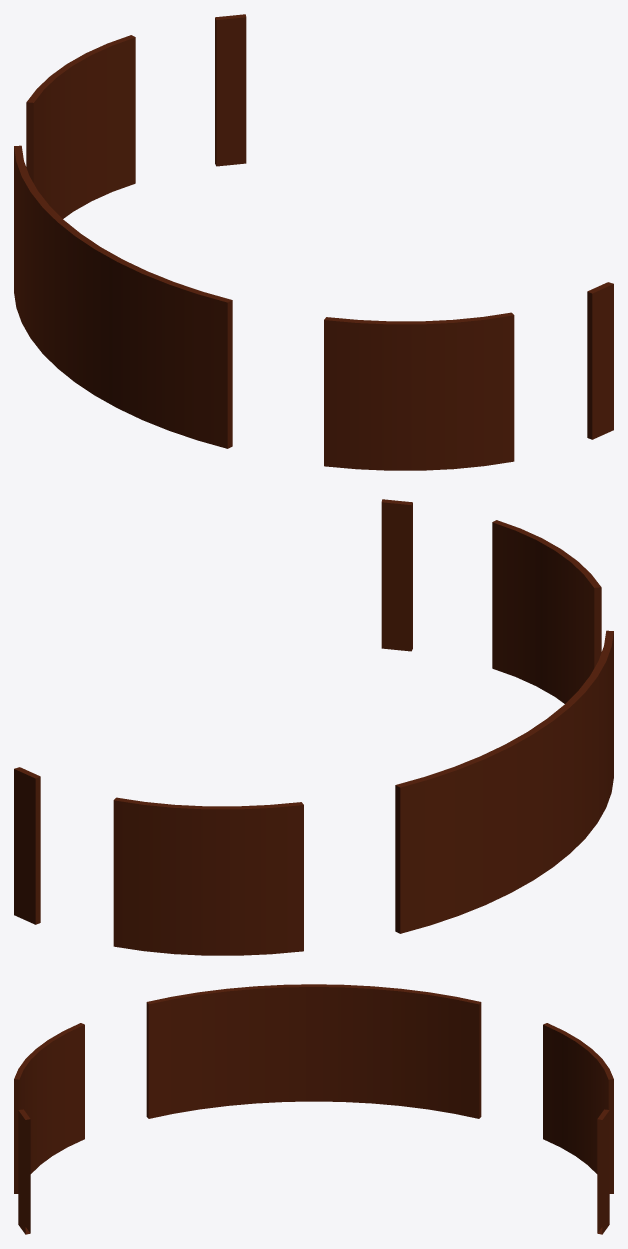
File: Wall.obj
3 views of the same model, one above another, from view 1: azimuth 30°, elevation 25°; view 2: azimuth 150°, elevation 25°; view 3: azimuth 270°, elevation 25° (orthographic). The views are drawn at different scales.
Visible parts, largest first — view 1: Circle.019_Circle.001; view 2: Circle.019_Circle.001; view 3: Circle.019_Circle.001.
Boxes of the visible parts, x1,y1,x2,y2 form: Circle.019_Circle.001: (14, 14, 613, 470); Circle.019_Circle.001: (14, 499, 613, 955); Circle.019_Circle.001: (14, 984, 613, 1234).
Size of the model in its own units: 10.68 by 4.2 by 19.93.
